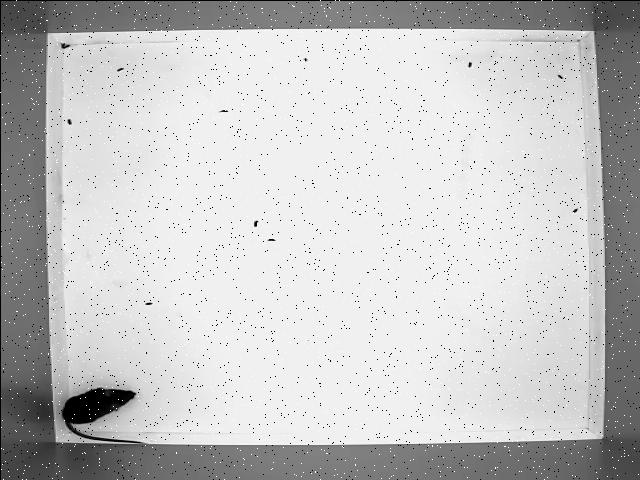Tikus: (62, 386, 146, 444)
